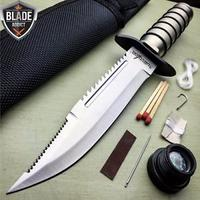knife: (5, 2, 183, 197)
